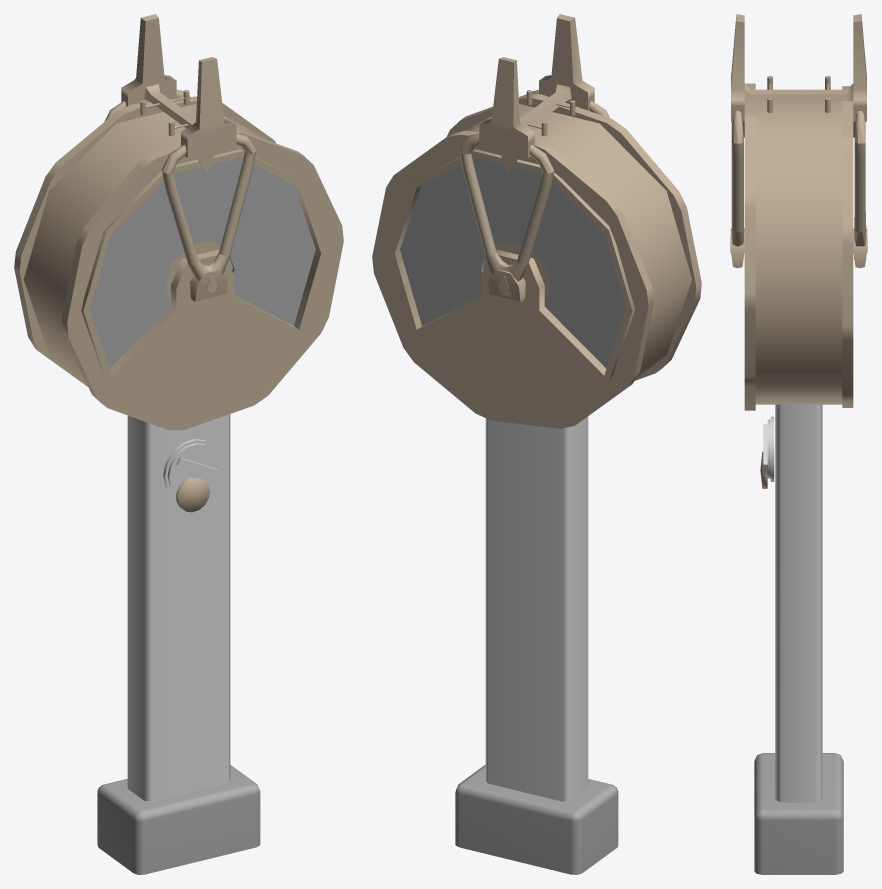
Rendered from m_bridge_speedGauge_low_r.fbx.
3 renders of one model, left to right at view 1: azimuth 30°, elevation 25°; view 2: azimuth 150°, elevation 25°; view 3: azimuth 270°, elevation 25°, orthographic. The views are drawn at different scales.
Parts seen in each view (by area): view 1: polySurface129, polySurface101, polySurface106, polySurface102, polySurface130, polySurface104, polySurface105, polySurface109, polySurface108, polySurface121, polySurface132, polySurface134 (+3 smaller); view 2: polySurface129, polySurface127, polySurface128, polySurface102, polySurface130, polySurface105, polySurface103, polySurface104, polySurface122, polySurface121, polySurface108, polySurface120 (+2 smaller); view 3: polySurface102, polySurface129, polySurface130, polySurface104, polySurface105, polySurface109, polySurface122, polySurface120, polySurface121, polySurface108, polySurface123, polySurface110 (+1 smaller).
Part boxes in pixels (<box>): polySurface129: <box>127,414,230,801</box>; polySurface101: <box>89,157,315,368</box>; polySurface106: <box>81,149,327,411</box>; polySurface102: <box>23,104,331,416</box>; polySurface130: <box>97,765,260,874</box>; polySurface104: <box>61,129,343,430</box>; polySurface105: <box>14,96,275,386</box>; polySurface109: <box>161,133,255,288</box>; polySurface108: <box>181,57,236,142</box>; polySurface121: <box>121,14,176,99</box>; polySurface132: <box>167,443,218,493</box>; polySurface134: <box>176,477,209,512</box>; polySurface129: <box>485,416,588,801</box>; polySurface127: <box>400,157,626,368</box>; polySurface128: <box>389,149,630,411</box>; polySurface102: <box>384,104,691,415</box>; polySurface130: <box>455,765,618,874</box>; polySurface105: <box>372,130,653,428</box>; polySurface103: <box>388,149,634,411</box>; polySurface104: <box>447,94,701,380</box>; polySurface122: <box>459,133,554,296</box>; polySurface121: <box>479,57,534,142</box>; polySurface108: <box>539,14,594,99</box>; polySurface120: <box>519,84,571,128</box>; polySurface102: <box>755,101,842,404</box>; polySurface129: <box>775,404,822,802</box>; polySurface130: <box>754,753,843,874</box>; polySurface104: <box>744,83,755,410</box>; polySurface105: <box>842,86,853,407</box>; polySurface109: <box>731,110,743,246</box>; polySurface122: <box>854,111,866,258</box>; polySurface120: <box>744,83,853,101</box>; polySurface121: <box>853,14,866,106</box>; polySurface108: <box>731,14,744,106</box>; polySurface123: <box>853,228,867,268</box>; polySurface110: <box>730,228,744,268</box>.
Bounding box in the file's own units: 22.68 × 63.21 × 9.54.
